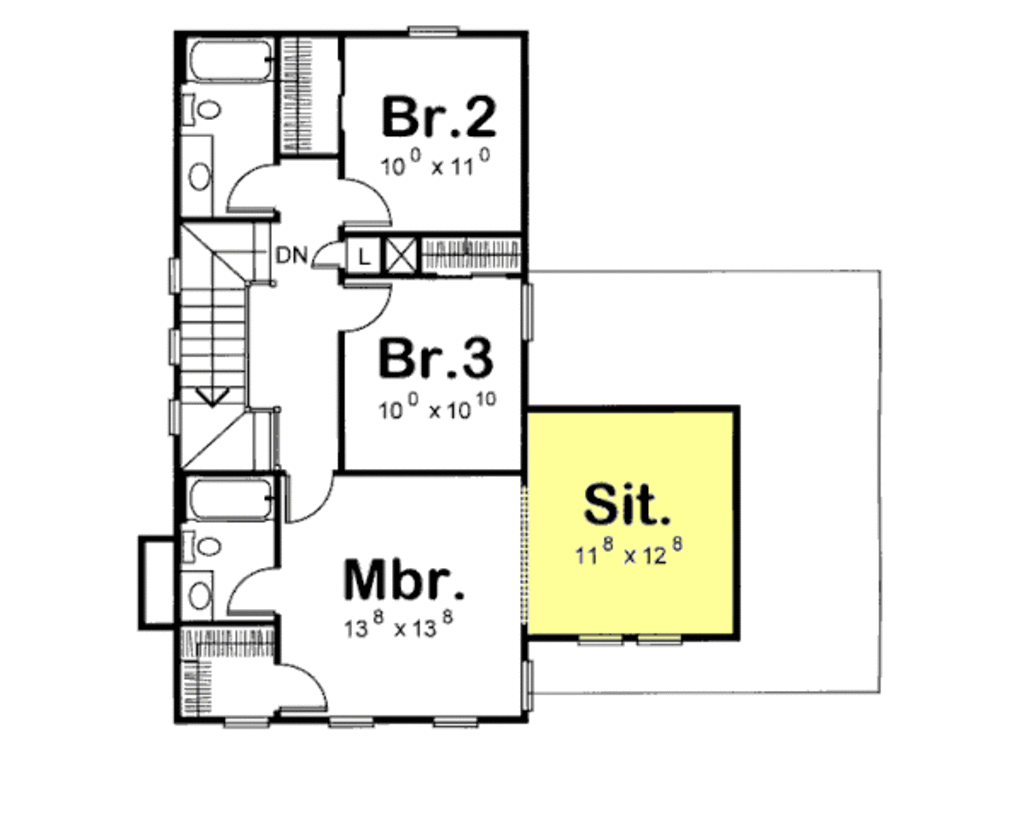door: (329, 165, 395, 224), (336, 279, 398, 336), (222, 161, 285, 217), (222, 565, 284, 617), (271, 658, 330, 710), (284, 472, 340, 522), (309, 242, 341, 273)
large_sink: (172, 77, 227, 131), (173, 529, 235, 568)
small_sink: (170, 134, 214, 219)
stairs: (175, 219, 280, 464)
tub: (182, 32, 277, 88), (181, 470, 282, 520)
window: (320, 704, 498, 734), (161, 247, 181, 442), (394, 17, 467, 54), (572, 627, 684, 647), (513, 278, 543, 340), (518, 655, 538, 714), (216, 713, 263, 731)
